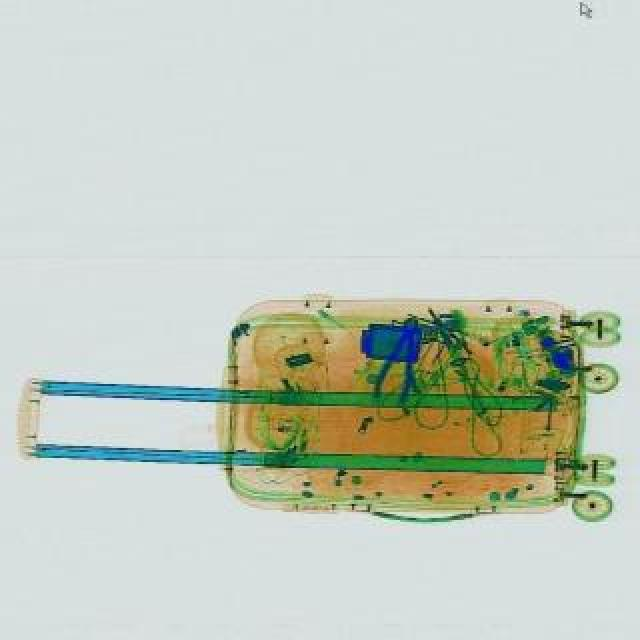wrench: (368, 312, 428, 404)
